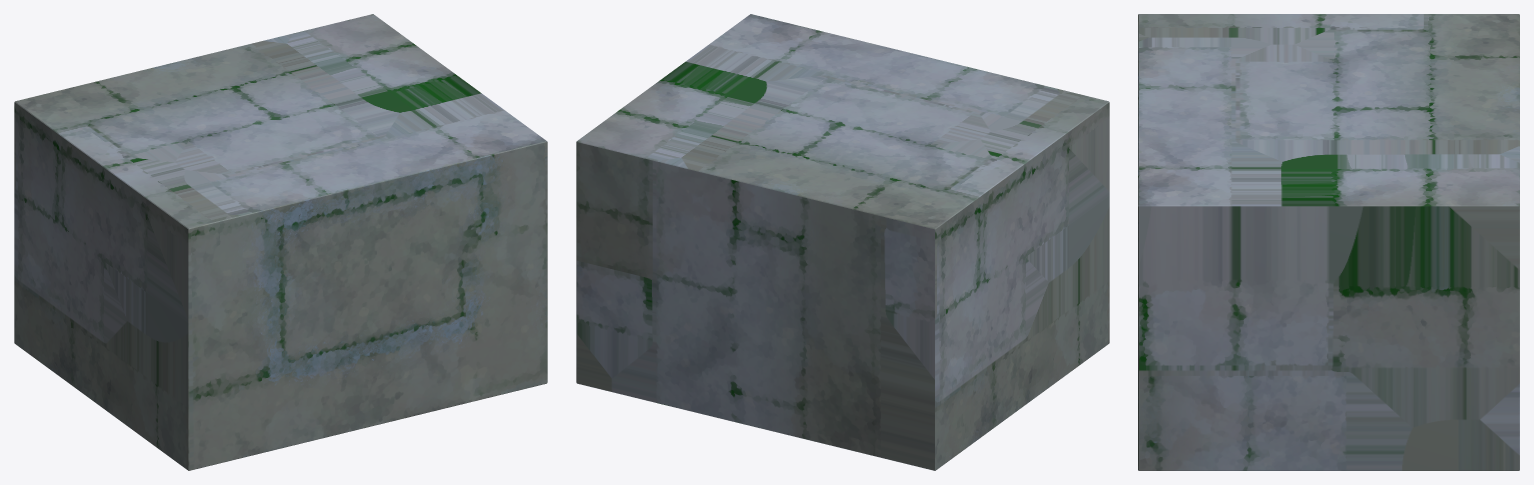
File: Wall_cube_noDamage_Low.fbx
3 renders of one model, left to right at view 1: azimuth 30°, elevation 25°; view 2: azimuth 150°, elevation 25°; view 3: azimuth 270°, elevation 25°, orthographic. The views are drawn at different scales.
Parts seen in each view (by area): view 1: Wall_cube_noDamage_Low; view 2: Wall_cube_noDamage_Low; view 3: Wall_cube_noDamage_Low.
Boxes of the visible parts, <box> form: Wall_cube_noDamage_Low: <box>14,14,547,470</box>; Wall_cube_noDamage_Low: <box>576,14,1109,470</box>; Wall_cube_noDamage_Low: <box>1138,14,1519,470</box>.
Bounding box in the file's own units: 2.48 × 1.6 × 2.08.
